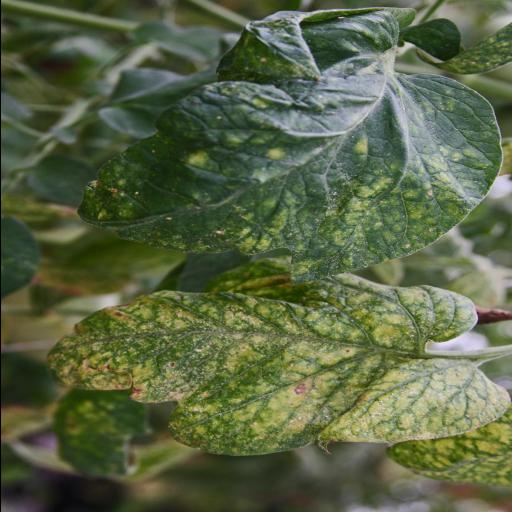Spider Mites: (72, 51, 500, 281), (46, 266, 512, 456)
